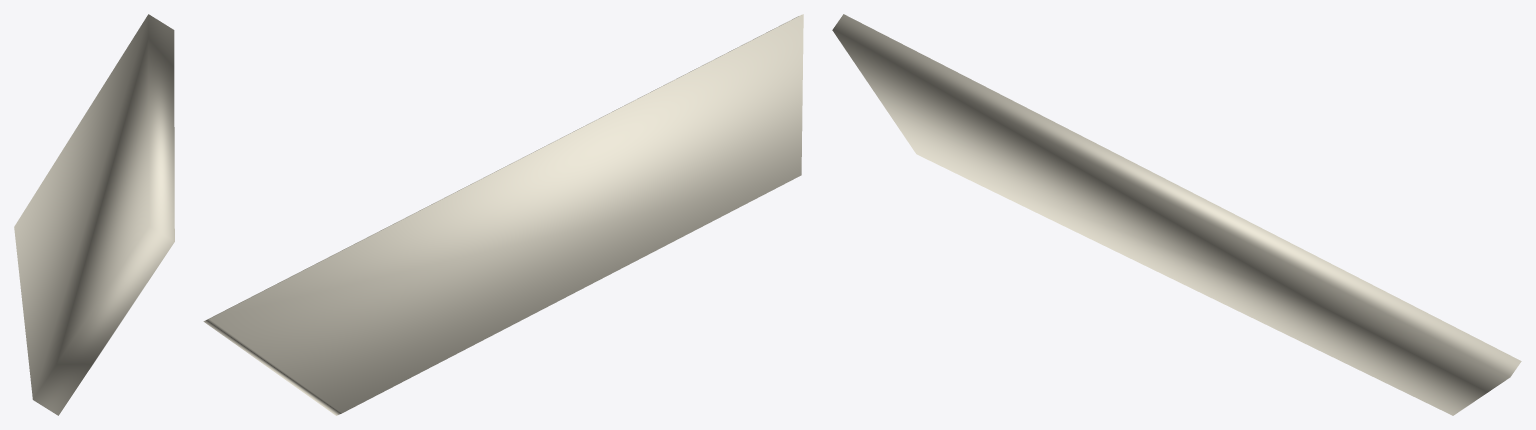
3 views of the same model, side by side, from view 1: azimuth 30°, elevation 25°; view 2: azimuth 150°, elevation 25°; view 3: azimuth 270°, elevation 25° (orthographic). The views are drawn at different scales.
Visible parts, largest first — view 1: ZA_ae617a439f60c686; view 2: ZA_ae617a439f60c686; view 3: ZA_ae617a439f60c686.
Boxes of the visible parts, x1,y1,x2,y2 form: ZA_ae617a439f60c686: (14, 14, 174, 415); ZA_ae617a439f60c686: (203, 14, 803, 415); ZA_ae617a439f60c686: (832, 14, 1521, 415).
Bounding box in the file's own units: 0.0105 × 0.0075 × 0.0161.
